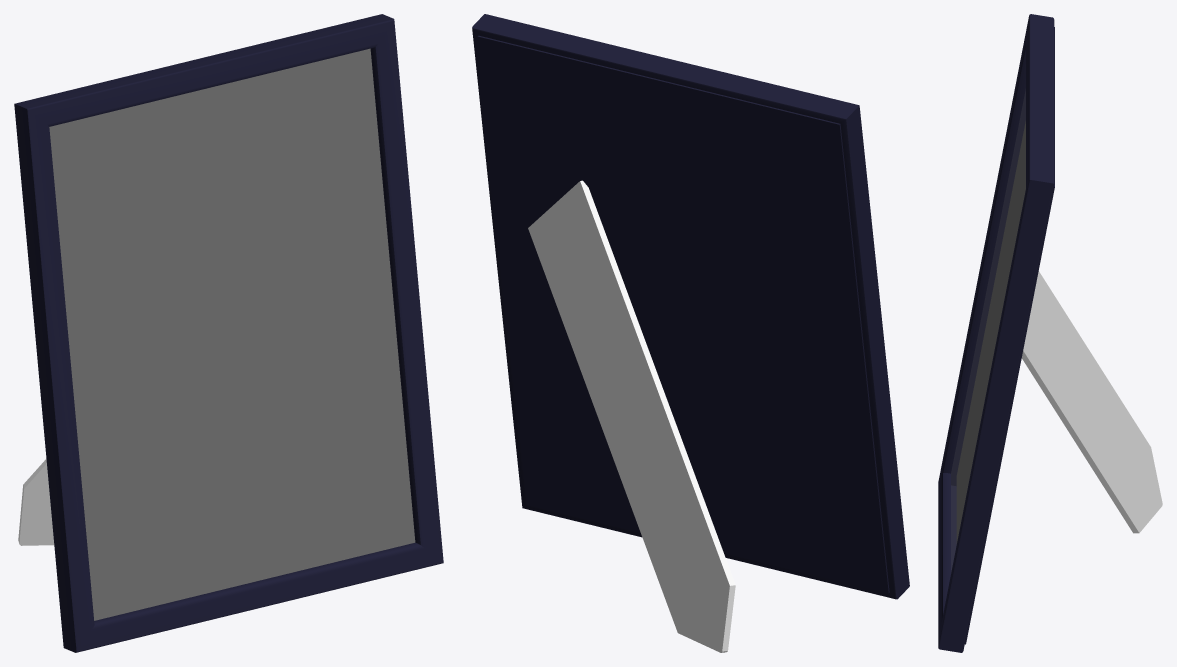
3 views of the same model, side by side, from view 1: azimuth 30°, elevation 25°; view 2: azimuth 150°, elevation 25°; view 3: azimuth 270°, elevation 25° (orthographic). The views are drawn at different scales.
Parts seen in each view (by area): view 1: polySurface1, polySurface2, pCube89; view 2: polySurface1, pCube89; view 3: polySurface1, pCube89, polySurface2.
Part boxes in pixels (x1,y1,x2,y2): polySurface1: (14, 14, 443, 652); polySurface2: (49, 48, 415, 620); pCube89: (18, 459, 54, 545); polySurface1: (472, 14, 909, 599); pCube89: (528, 180, 735, 652); polySurface1: (938, 14, 1054, 652); pCube89: (1022, 271, 1162, 533); polySurface2: (956, 121, 1025, 543).
Size of the model in its own units: 0.1575 by 0.2094 by 0.09.
